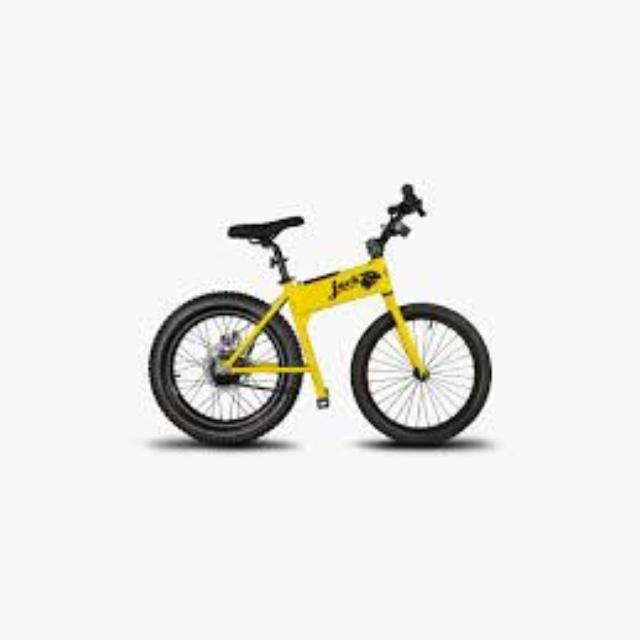obstacle: (141, 168, 523, 472)
